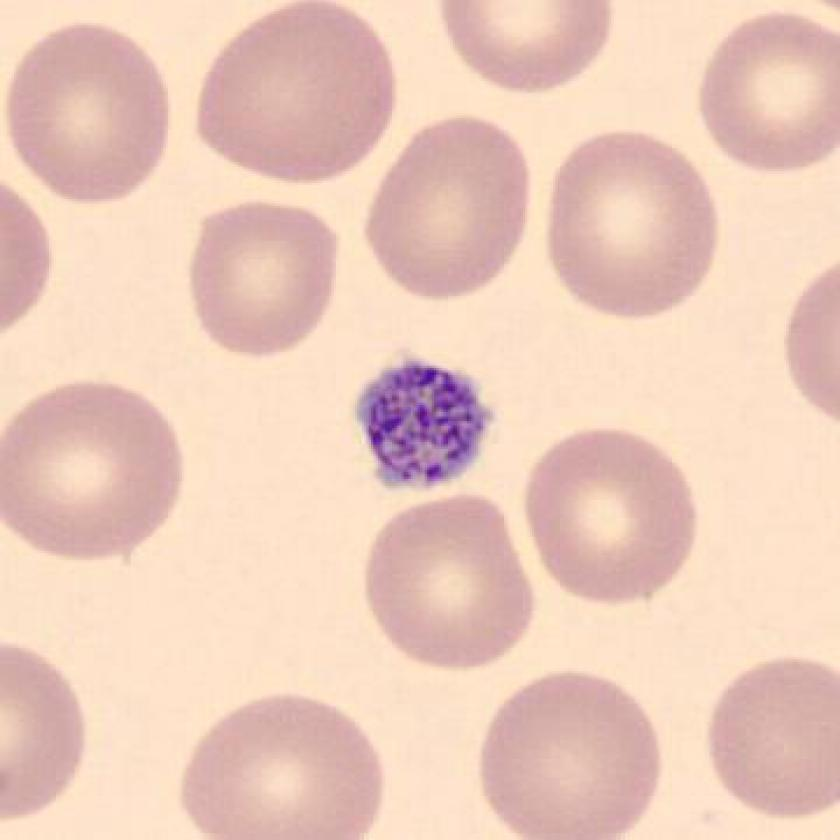platelets: (344, 351, 503, 506)
